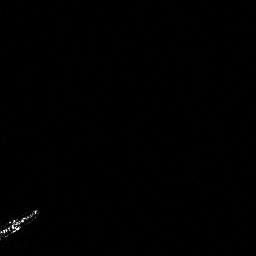ship: (1, 206, 41, 242)
